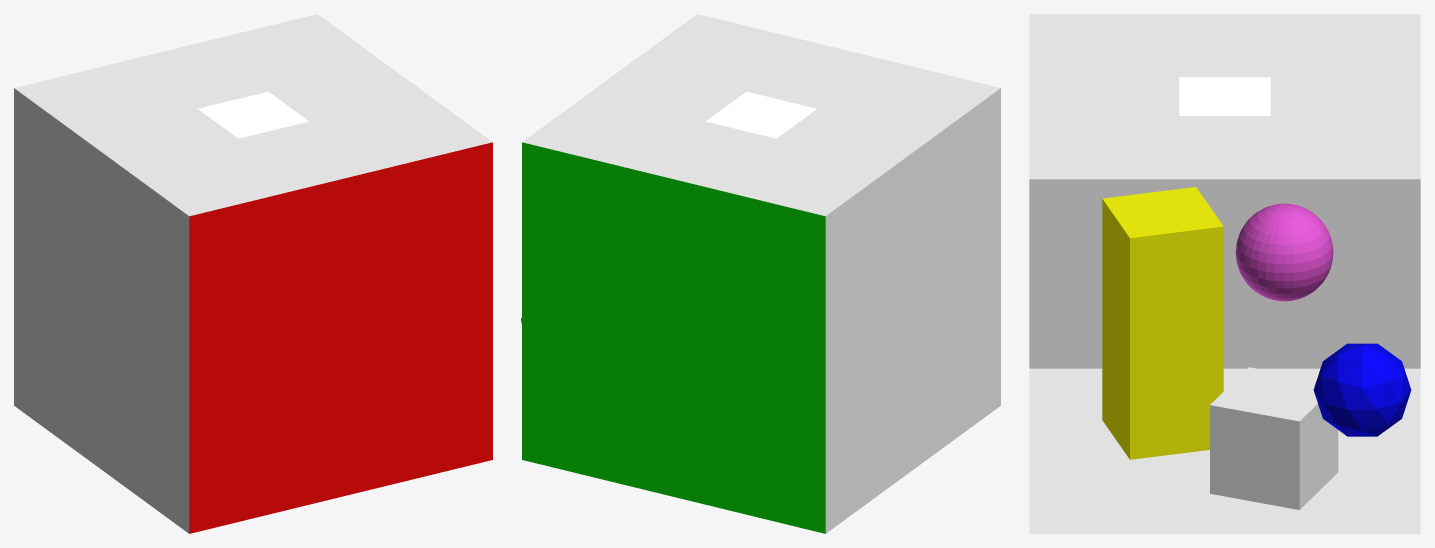
File: my_cornell_7.gltf
3 views of the same model, side by side, from view 1: azimuth 30°, elevation 25°; view 2: azimuth 150°, elevation 25°; view 3: azimuth 270°, elevation 25° (orthographic). The views are drawn at different scales.
Parts seen in each view (by area): view 1: LeftWall, BackWall, Ceiling, Light; view 2: RightWall, BackWall, Ceiling, Light; view 3: Ceiling, BackWall, Floor, Prism, Cube, Sphere, Icosphere, Light.
Boxes of the visible parts, x1=… form: LeftWall: x1=189, y1=142, x2=492, y2=533; BackWall: x1=14, y1=88, x2=189, y2=533; Ceiling: x1=14, y1=14, x2=492, y2=216; Light: x1=198, y1=91, x2=308, y2=138; RightWall: x1=522, y1=142, x2=825, y2=533; BackWall: x1=825, y1=88, x2=1000, y2=533; Ceiling: x1=522, y1=14, x2=1000, y2=216; Light: x1=706, y1=91, x2=816, y2=138; Ceiling: x1=1029, y1=14, x2=1420, y2=179; BackWall: x1=1029, y1=179, x2=1420, y2=368; Floor: x1=1029, y1=368, x2=1420, y2=533; Prism: x1=1102, y1=187, x2=1223, y2=459; Cube: x1=1210, y1=367, x2=1338, y2=509; Sphere: x1=1235, y1=203, x2=1333, y2=301; Icosphere: x1=1313, y1=343, x2=1411, y2=436; Light: x1=1179, y1=77, x2=1270, y2=115.
Size of the model in its own units: 8.54 by 8 by 8.
